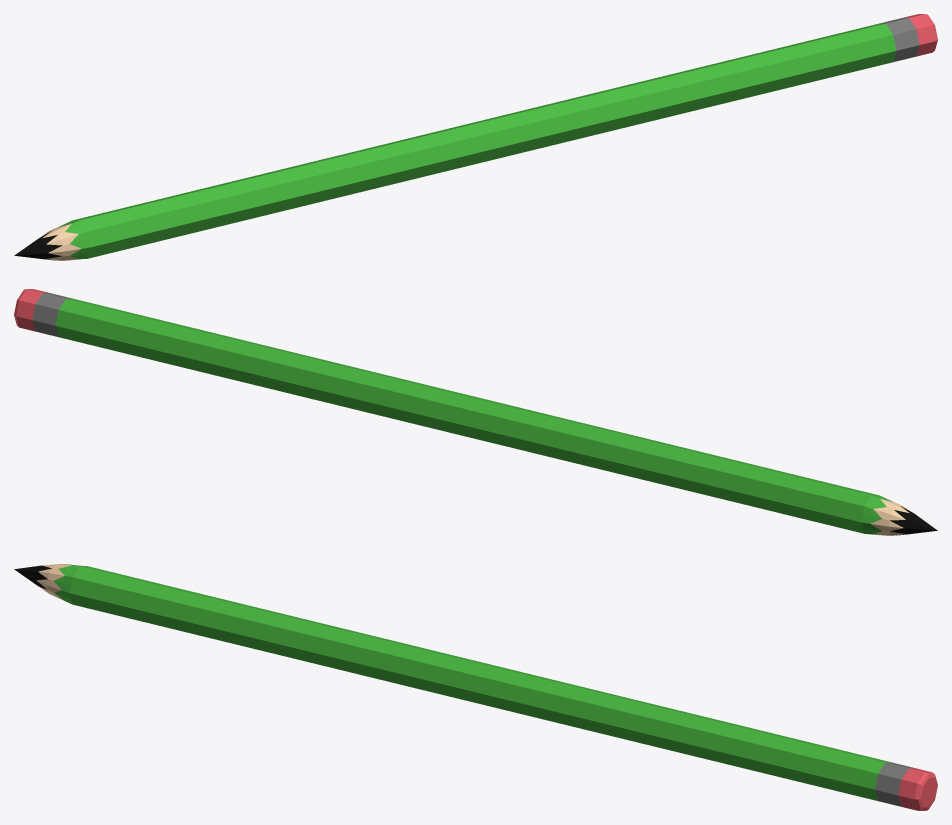
The model's file is Pencil_green.fbx.
The picture shows the model from 3 angles, top to bottom: view 1: azimuth 30°, elevation 25°; view 2: azimuth 150°, elevation 25°; view 3: azimuth 330°, elevation 25°; orthographic projection.
Visible parts, largest first — view 1: Cone.003; view 2: Cone.003; view 3: Cone.003.
Part boxes in pixels (x1=…): Cone.003: x1=14, y1=14, x2=937, y2=260; Cone.003: x1=14, y1=289, x2=937, y2=535; Cone.003: x1=14, y1=564, x2=937, y2=810.
Size of the model in its own units: 14.99 by 0.6062 by 0.6062.
